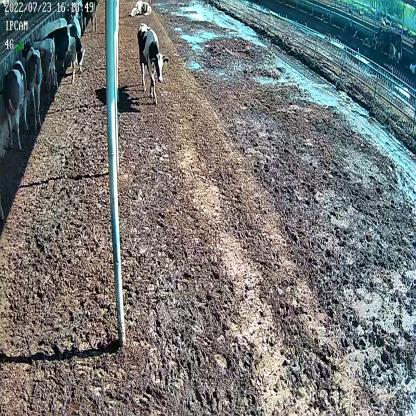cow: (137, 20, 169, 106), (3, 57, 29, 150), (21, 41, 44, 127), (131, 0, 156, 19)
